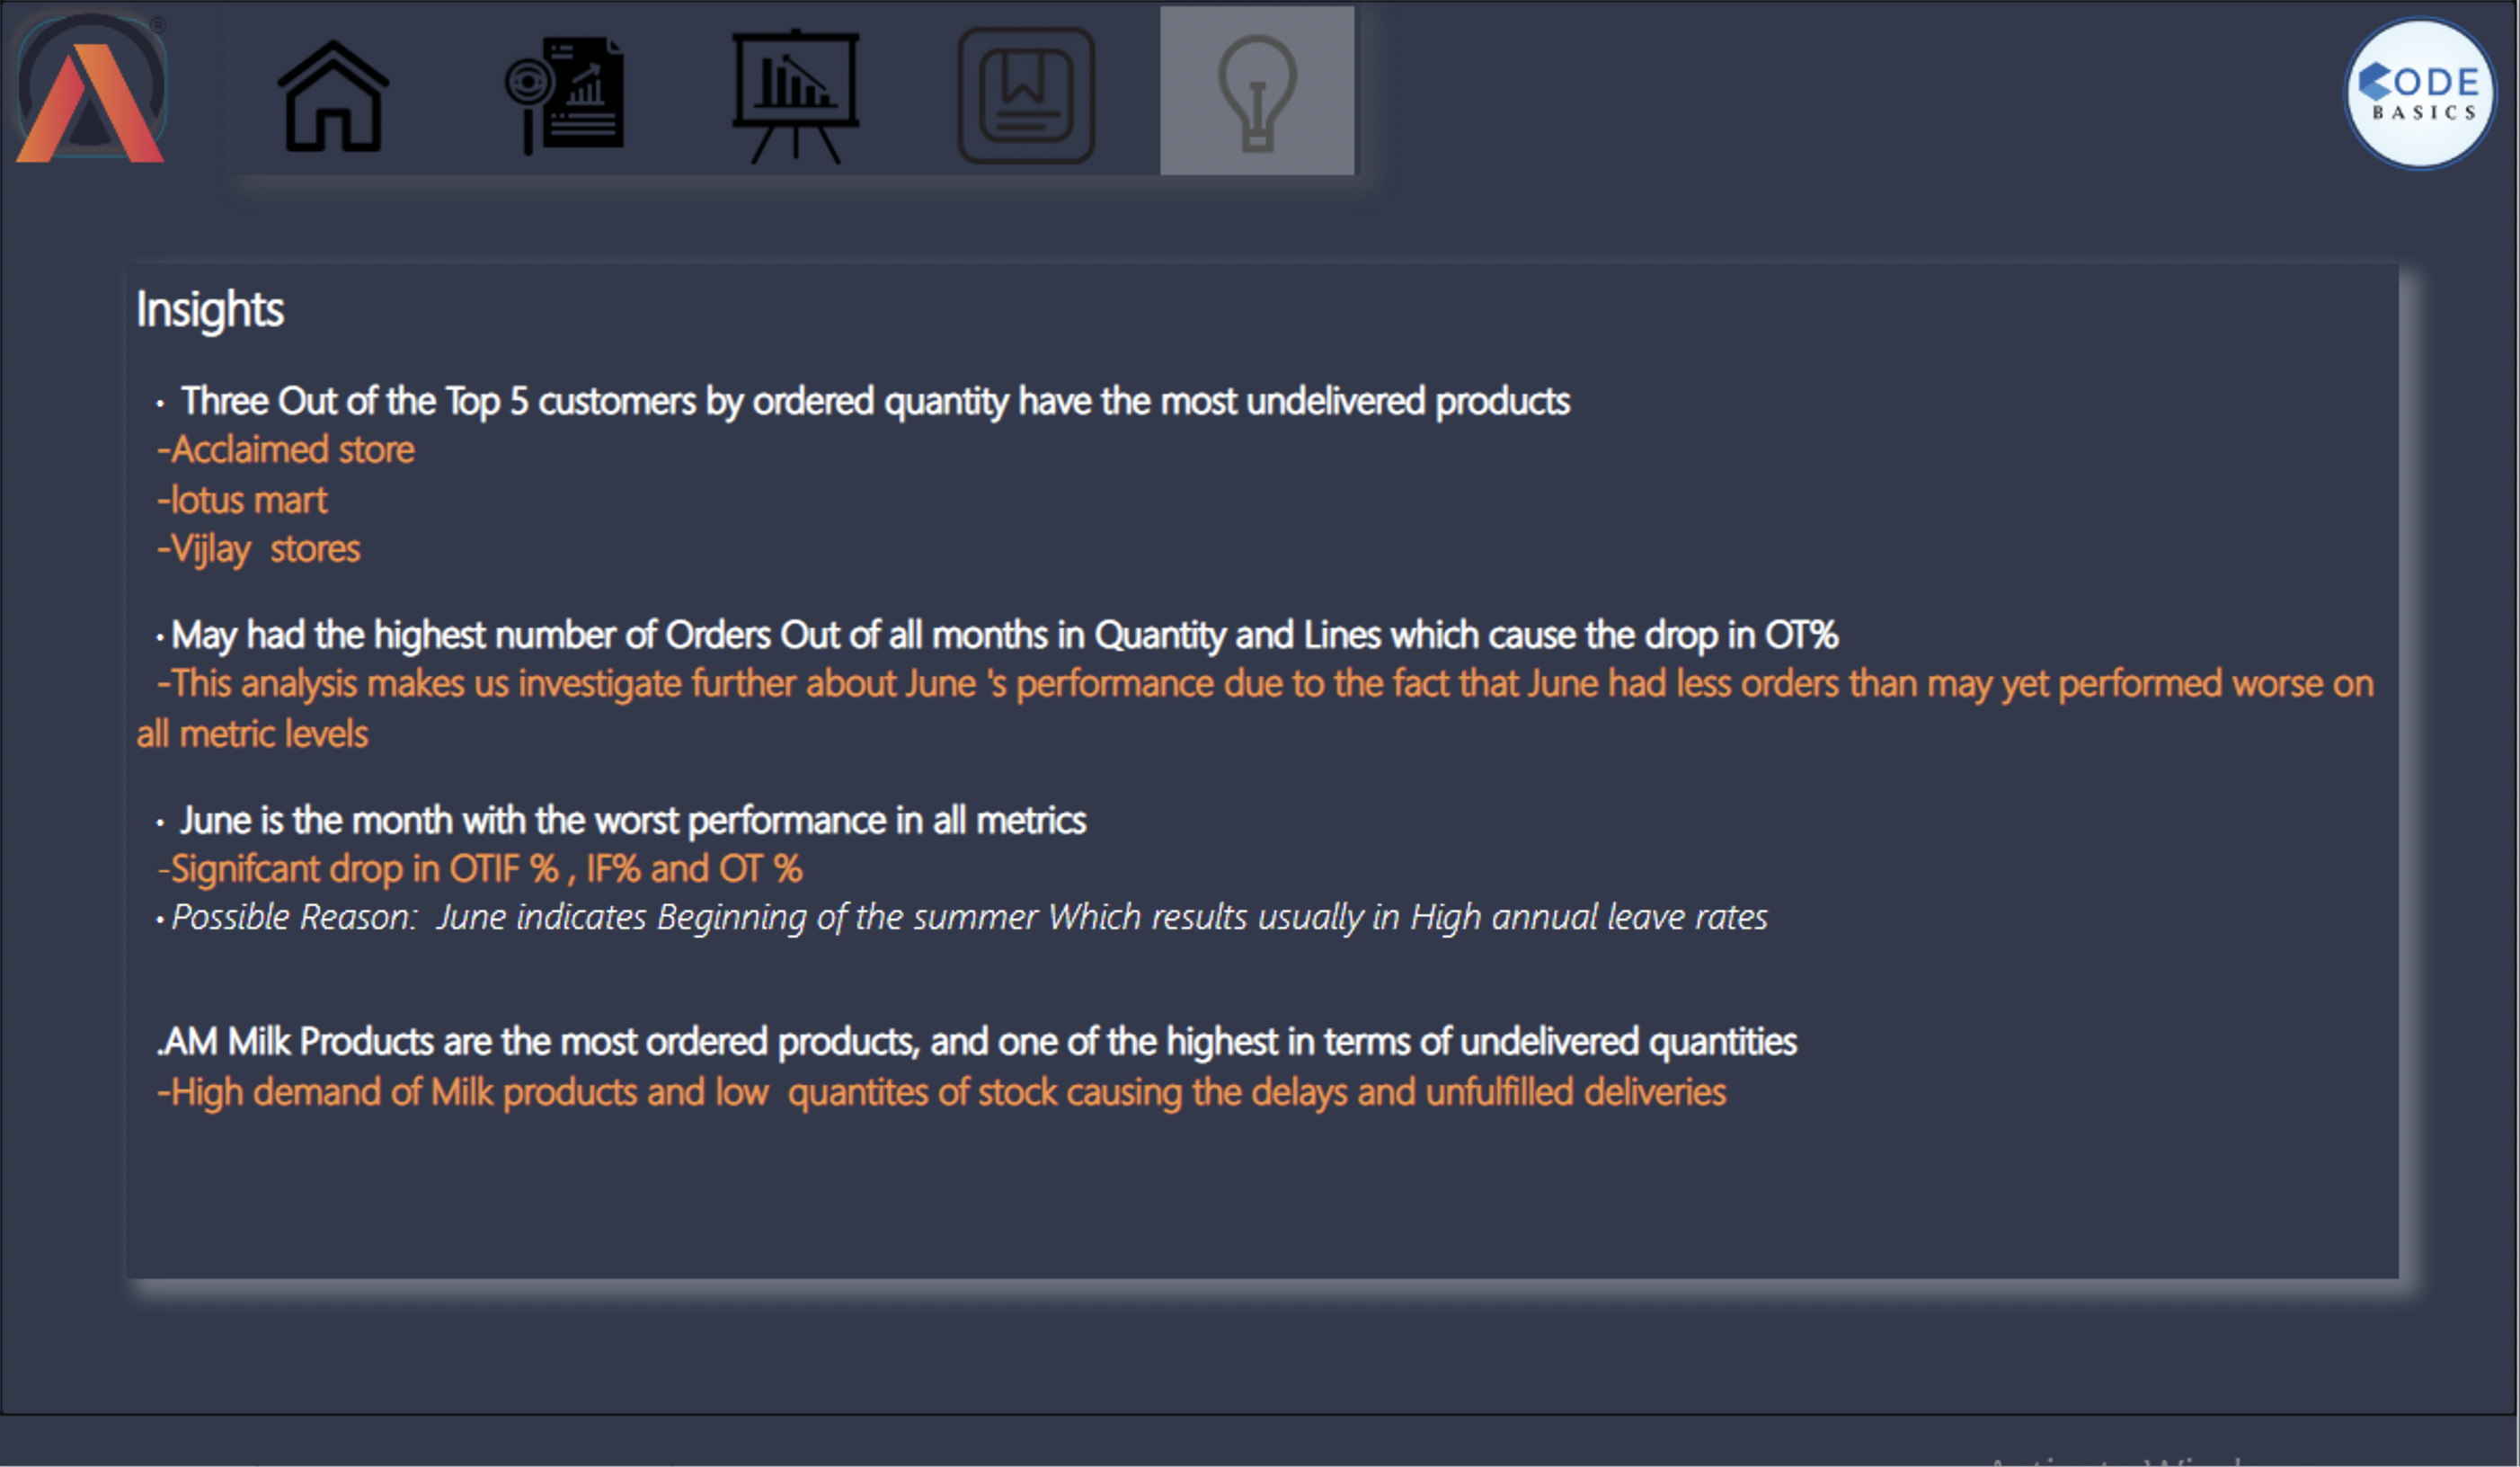

Layout of this report page (visuals, bound fields, positions):
{"tool":"powerbi","page":{"name":"Insights","canvas":[1280,720],"ordinal":4},"visuals":[{"type":"shape","title":"BOX","box":[116.4,0,575.1,89.4],"z":0},{"type":"image","box":[129.4,8.1,80.3,80.3],"z":1000},{"type":"image","box":[247.8,8.1,79,80.3],"z":2000},{"type":"image","box":[364.9,8.1,79,80.3],"z":3000},{"type":"image","box":[482,8.4,80,80],"z":4000},{"type":"image","box":[597,8.4,86,74.2],"z":5000},{"type":"shape","box":[0,0,94.4,89.4],"z":7000},{"type":"image","box":[0,0,94.4,87.7],"z":7500},{"type":"shape","box":[590.3,3.4,99.5,86],"z":8000},{"type":"image","box":[1183,0,97,95.4],"z":9000},{"type":"textbox","box":[64.6,134.1,1155.6,515.6],"z":10000}]}

Visuals, with their boxes on the page's 1280x720 design canvas (x1, y1, x2, y2). These are canvas units, not pixel positions in the 2520x1467 screenshot, which may show the page scaled, cropped or inside an application window:
"BOX" shape: [116,0,692,89]
image: [129,8,210,88]
image: [248,8,327,88]
image: [365,8,444,88]
image: [482,8,562,88]
image: [597,8,683,83]
shape: [0,0,94,89]
image: [0,0,94,88]
shape: [590,3,690,89]
image: [1183,0,1280,95]
textbox: [65,134,1220,650]
